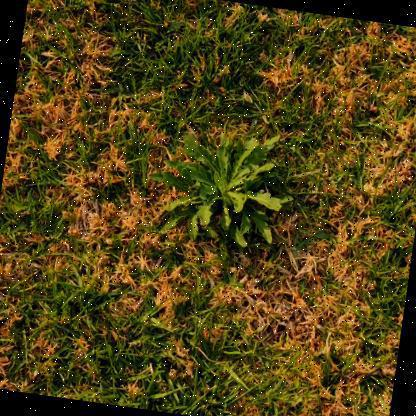Weeds: (140, 117, 303, 256)
